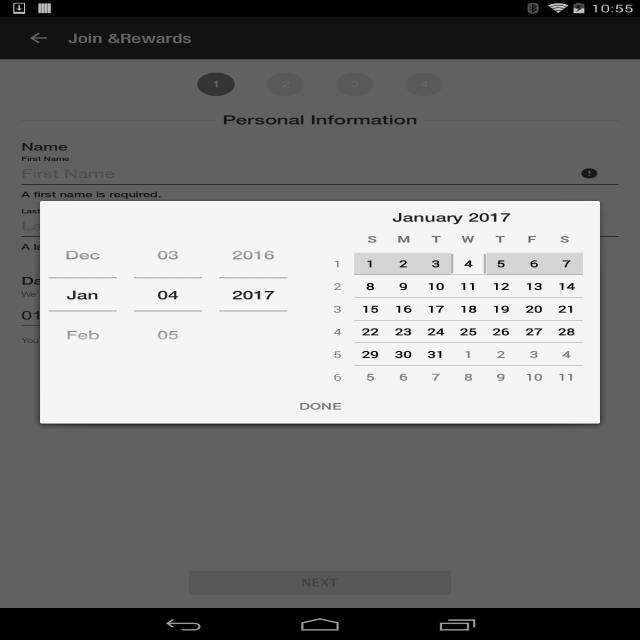Button: (40, 388, 600, 423), (48, 234, 117, 278), (48, 310, 117, 354), (219, 234, 288, 278), (134, 234, 202, 278), (134, 310, 202, 354)
EditText: (48, 278, 117, 310), (219, 278, 288, 310), (134, 278, 202, 310)
ImageView: (322, 250, 583, 251)
TextView: (392, 201, 512, 232), (324, 232, 356, 246), (419, 233, 452, 245), (548, 233, 581, 245), (356, 233, 388, 245), (388, 233, 420, 245), (452, 233, 484, 245), (484, 233, 516, 245), (516, 233, 548, 245)
